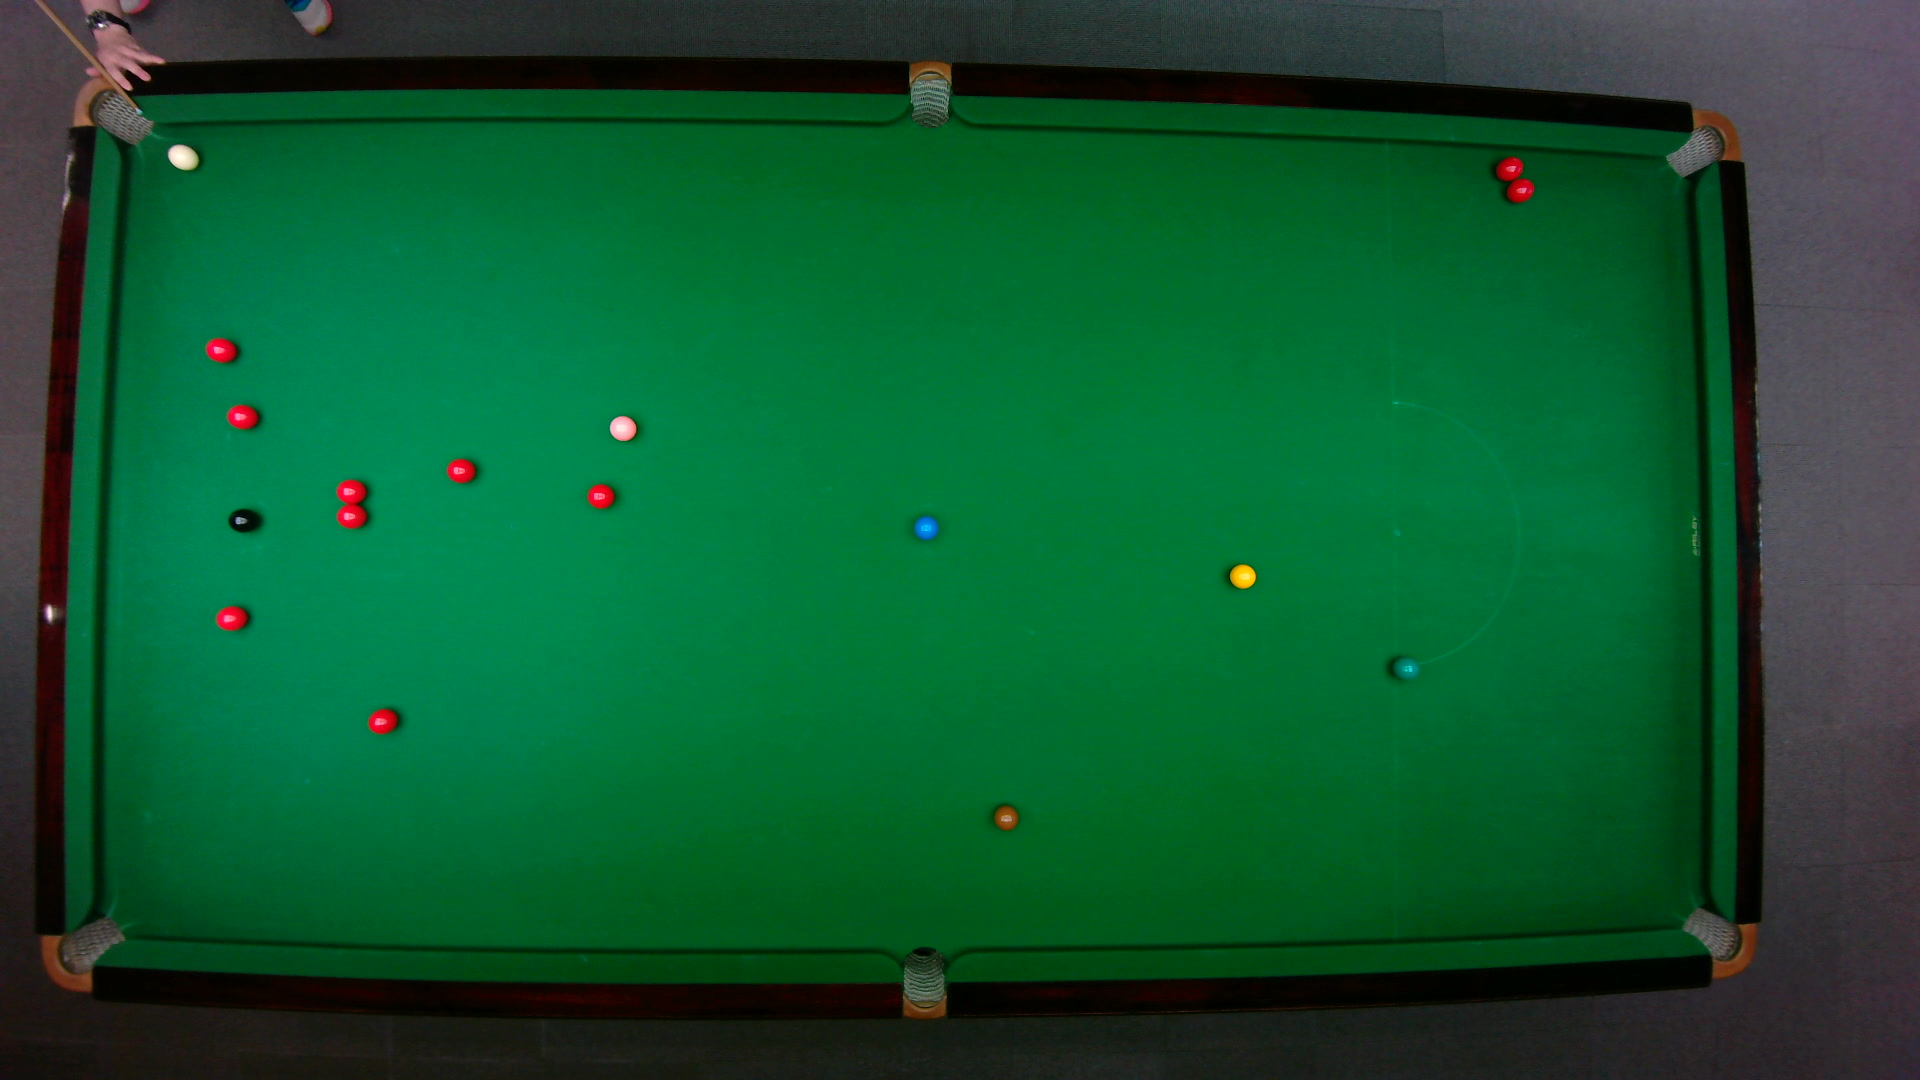bag: (38, 913, 127, 992), (70, 73, 154, 145), (1677, 906, 1760, 978), (1664, 108, 1741, 178), (902, 945, 948, 1021), (909, 58, 953, 129)
black: (225, 506, 261, 534)
blue: (913, 516, 940, 541)
brown: (992, 804, 1021, 832)
cue: (36, 0, 144, 116)
green: (1390, 654, 1422, 682)
pink: (608, 414, 640, 443)
red: (224, 402, 261, 433), (214, 604, 251, 633), (203, 336, 239, 365), (334, 504, 371, 531), (367, 705, 400, 736), (334, 477, 371, 504), (584, 483, 617, 512), (1505, 177, 1538, 204), (444, 458, 477, 485), (1494, 156, 1526, 183)
white: (165, 142, 199, 171)
yellow: (1228, 562, 1258, 589)
zone: (1389, 400, 1520, 667)
